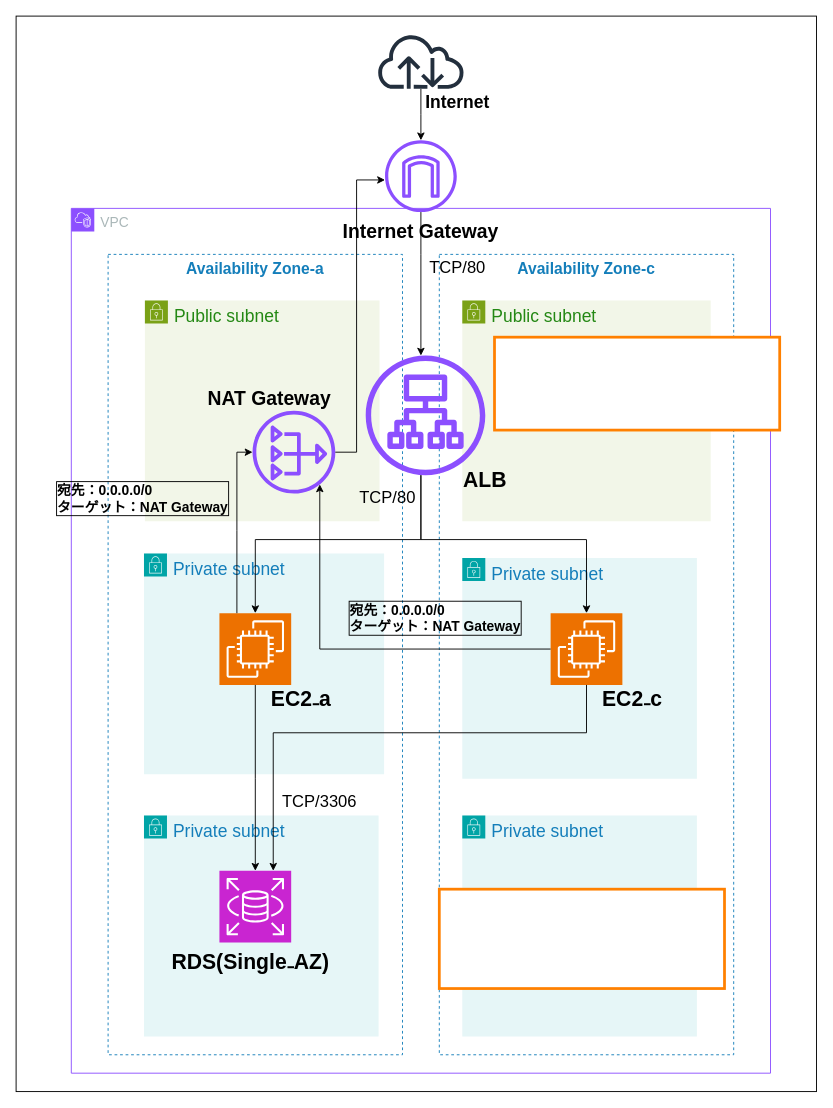
Some shapes in this 833 by 1108 pixel diagram are drawn without their labels. The centre of each missing label's shape, as x and y in pixels:
"※ 検証環境のため、NAT Gatewayはコストを考慮して1台構成" goes at pixel 637 383.
"※RDSはSingle-AZ構成。将来のMulti-AZ化を想定し、2AZ分のPrivate subnetを確保" goes at pixel 581 938.
